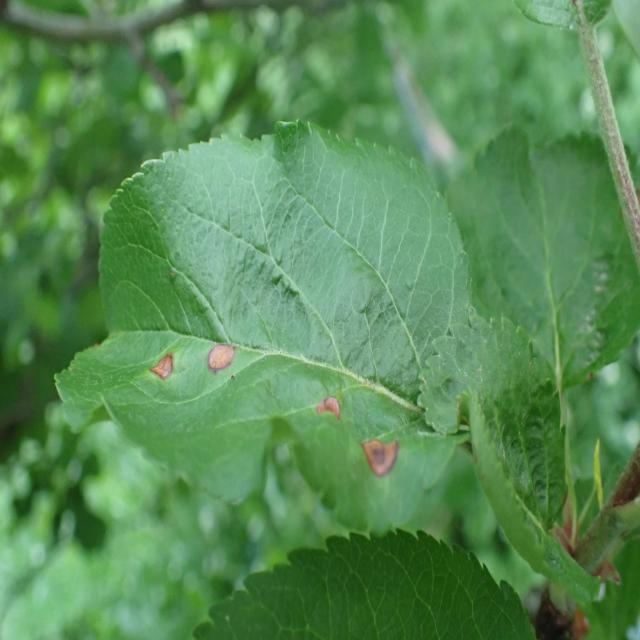Black Rot: (350, 428, 418, 496), (144, 328, 186, 409), (307, 391, 347, 447), (201, 326, 235, 390)
